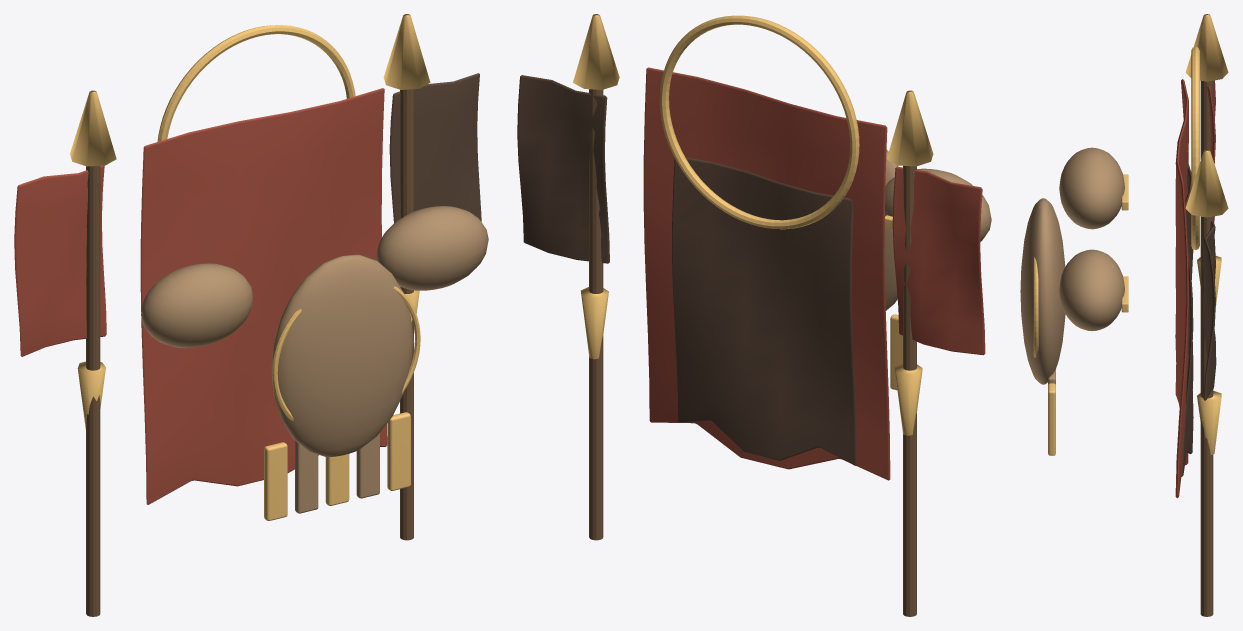
The model's file is boss-human-regalia.glb.
3 renders of one model, left to right at view 1: azimuth 30°, elevation 25°; view 2: azimuth 150°, elevation 25°; view 3: azimuth 270°, elevation 25°, orthographic. The views are drawn at different scales.
Visible parts, largest first — view 1: boss_asset_mantle_deep_cloth, boss_asset_cuirass_relief, boss_asset_flag_cloth_L, boss_asset_flag_cloth_R, boss_asset_raised_pauldron_L, boss_asset_raised_pauldron_R, boss_asset_standard_pole_L, boss_asset_standard_pole_R, boss_asset_back_sun_disc, boss_asset_standard_finial_L, boss_asset_standard_finial_R, boss_asset_tasset_0 (+6 smaller); view 2: boss_asset_inner_shadow_cloth, boss_asset_mantle_deep_cloth, boss_asset_flag_cloth_L, boss_asset_flag_cloth_R, boss_asset_back_sun_disc, boss_asset_standard_pole_R, boss_asset_standard_pole_L, boss_asset_standard_finial_L, boss_asset_standard_finial_R, boss_asset_flag_tassel_L, boss_asset_flag_tassel_R, boss_asset_cuirass_relief (+2 smaller); view 3: boss_asset_cuirass_relief, boss_asset_mantle_deep_cloth, boss_asset_raised_pauldron_L, boss_asset_raised_pauldron_R, boss_asset_standard_pole_R, boss_asset_flag_cloth_R, boss_asset_standard_finial_R, boss_asset_inner_shadow_cloth, boss_asset_standard_finial_L, boss_asset_back_sun_disc, boss_asset_flag_tassel_R, boss_asset_standard_pole_L (+3 smaller).
Part boxes in pixels (x1,y1,x2,y2): boss_asset_mantle_deep_cloth: (140, 88, 387, 504); boss_asset_cuirass_relief: (271, 254, 413, 457); boss_asset_flag_cloth_L: (14, 165, 106, 356); boss_asset_flag_cloth_R: (389, 73, 481, 223); boss_asset_raised_pauldron_L: (141, 263, 253, 348); boss_asset_raised_pauldron_R: (376, 206, 488, 290); boss_asset_standard_pole_L: (86, 166, 100, 616); boss_asset_standard_pole_R: (400, 89, 413, 540); boss_asset_back_sun_disc: (157, 25, 355, 141); boss_asset_standard_finial_L: (70, 90, 116, 166); boss_asset_standard_finial_R: (383, 14, 430, 89); boss_asset_tasset_0: (264, 442, 287, 520); boss_asset_inner_shadow_cloth: (672, 157, 856, 465); boss_asset_mantle_deep_cloth: (643, 67, 890, 480); boss_asset_flag_cloth_L: (892, 166, 985, 355); boss_asset_flag_cloth_R: (517, 75, 609, 263); boss_asset_back_sun_disc: (659, 15, 859, 229); boss_asset_standard_pole_R: (589, 89, 603, 540); boss_asset_standard_pole_L: (903, 165, 916, 616); boss_asset_standard_finial_L: (887, 90, 933, 166); boss_asset_standard_finial_R: (573, 14, 619, 89); boss_asset_flag_tassel_L: (894, 363, 922, 435); boss_asset_flag_tassel_R: (580, 287, 608, 359); boss_asset_cuirass_relief: (884, 149, 898, 310); boss_asset_cuirass_relief: (1020, 198, 1065, 384); boss_asset_mantle_deep_cloth: (1175, 79, 1188, 498); boss_asset_raised_pauldron_L: (1059, 147, 1124, 229); boss_asset_raised_pauldron_R: (1059, 249, 1124, 331); boss_asset_standard_pole_R: (1200, 216, 1213, 616); boss_asset_flag_cloth_R: (1203, 220, 1216, 400); boss_asset_standard_finial_R: (1185, 150, 1228, 217); boss_asset_inner_shadow_cloth: (1181, 163, 1193, 476); boss_asset_standard_finial_L: (1185, 14, 1228, 81); boss_asset_back_sun_disc: (1191, 46, 1199, 250); boss_asset_flag_tassel_R: (1197, 391, 1221, 454); boss_asset_standard_pole_L: (1200, 80, 1213, 159).
Bounding box in the file's own units: 1.65 × 1.89 × 0.725.
